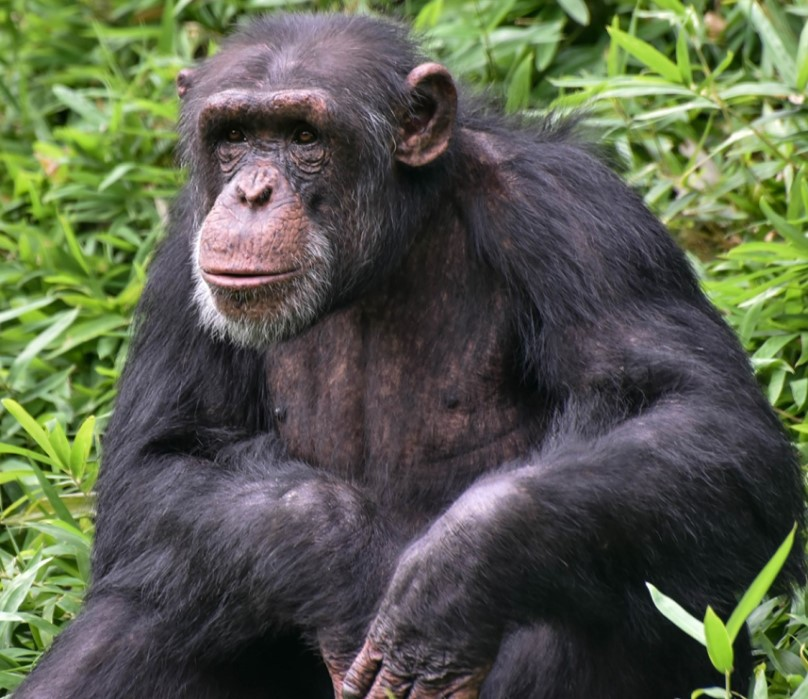Chimpanzee: (111, 14, 724, 699)
